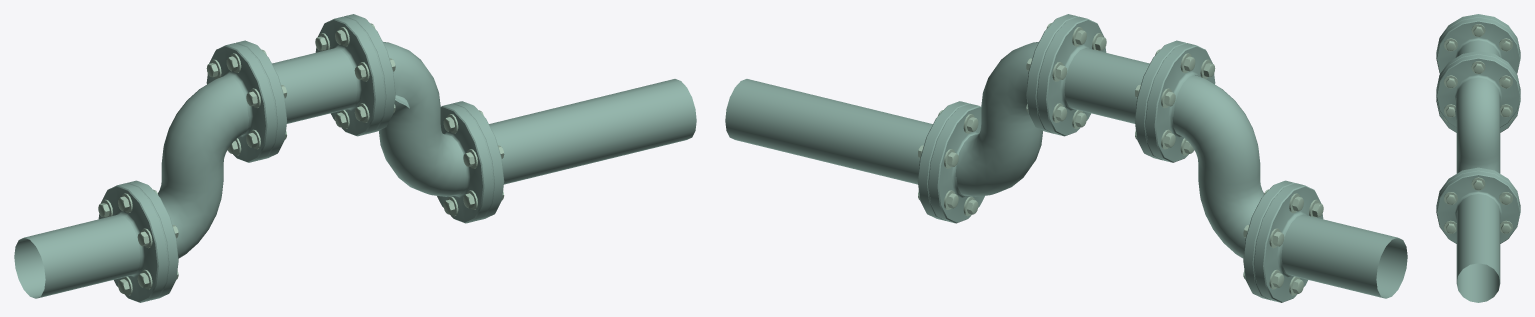
Rendered from PipeComplexLarge_A3_13.fbx.
3 renders of one model, left to right at view 1: azimuth 30°, elevation 25°; view 2: azimuth 150°, elevation 25°; view 3: azimuth 270°, elevation 25°, orthographic. The views are drawn at different scales.
Parts seen in each view (by area): view 1: PipeComplexLarge_A3_13.001; view 2: PipeComplexLarge_A3_13.001; view 3: PipeComplexLarge_A3_13.001.
Part boxes in pixels (x1,y1,x2,y2): PipeComplexLarge_A3_13.001: (14, 14, 696, 302); PipeComplexLarge_A3_13.001: (725, 14, 1407, 302); PipeComplexLarge_A3_13.001: (1436, 14, 1520, 302).
Size of the model in its own units: 2.4 by 0.7846 by 0.3846.
